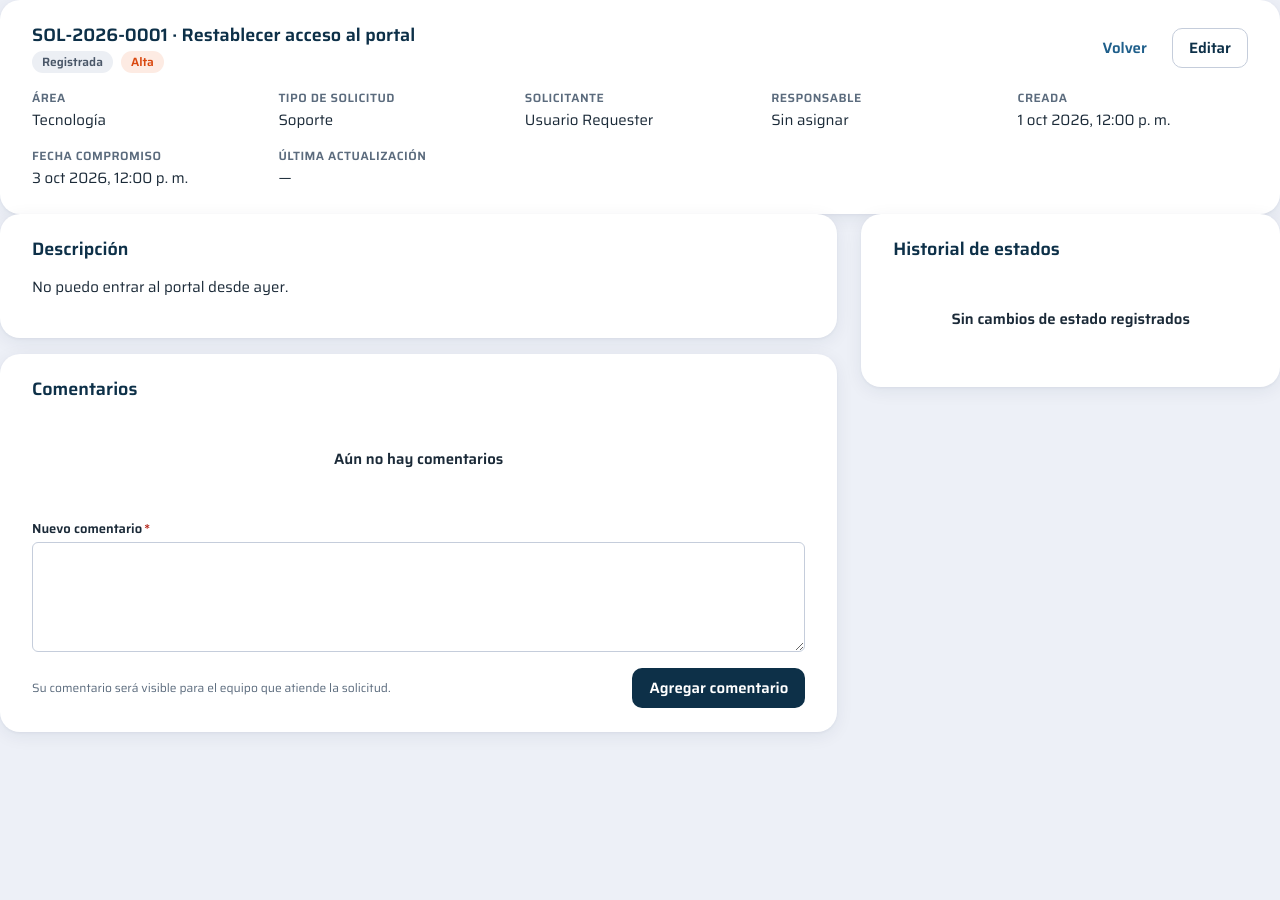
Test: ServiceRequestDetailPage › ante un conflicto de versión avisa, recarga la solicitud y conserva lo escrito
Click the button "Editar" at (1210, 48), box [1172,28,1248,68]
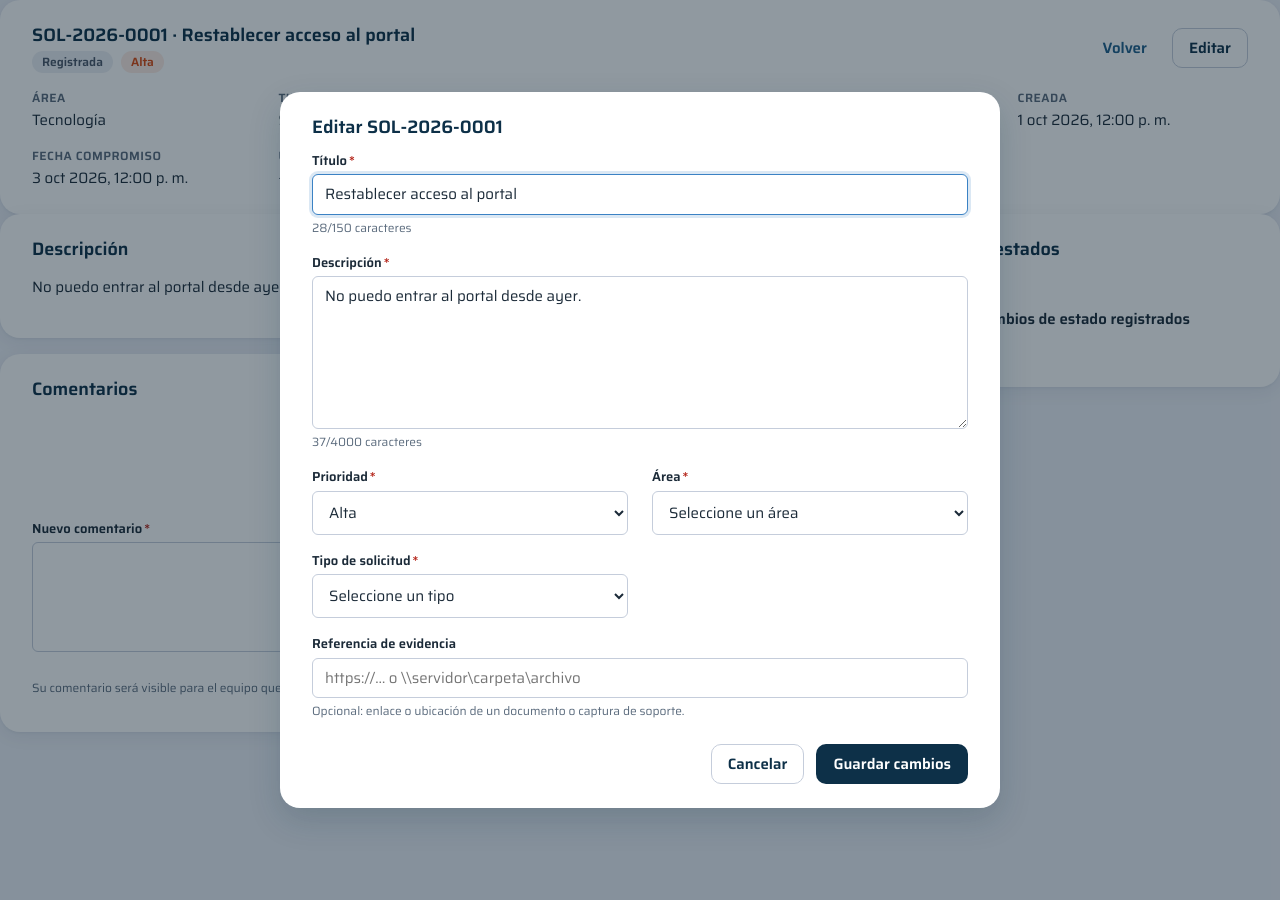
Replace the text in the field labelled "Título*" with "Restablecer acceso al portal de proveedores" at (640, 194), box [312,174,968,214]
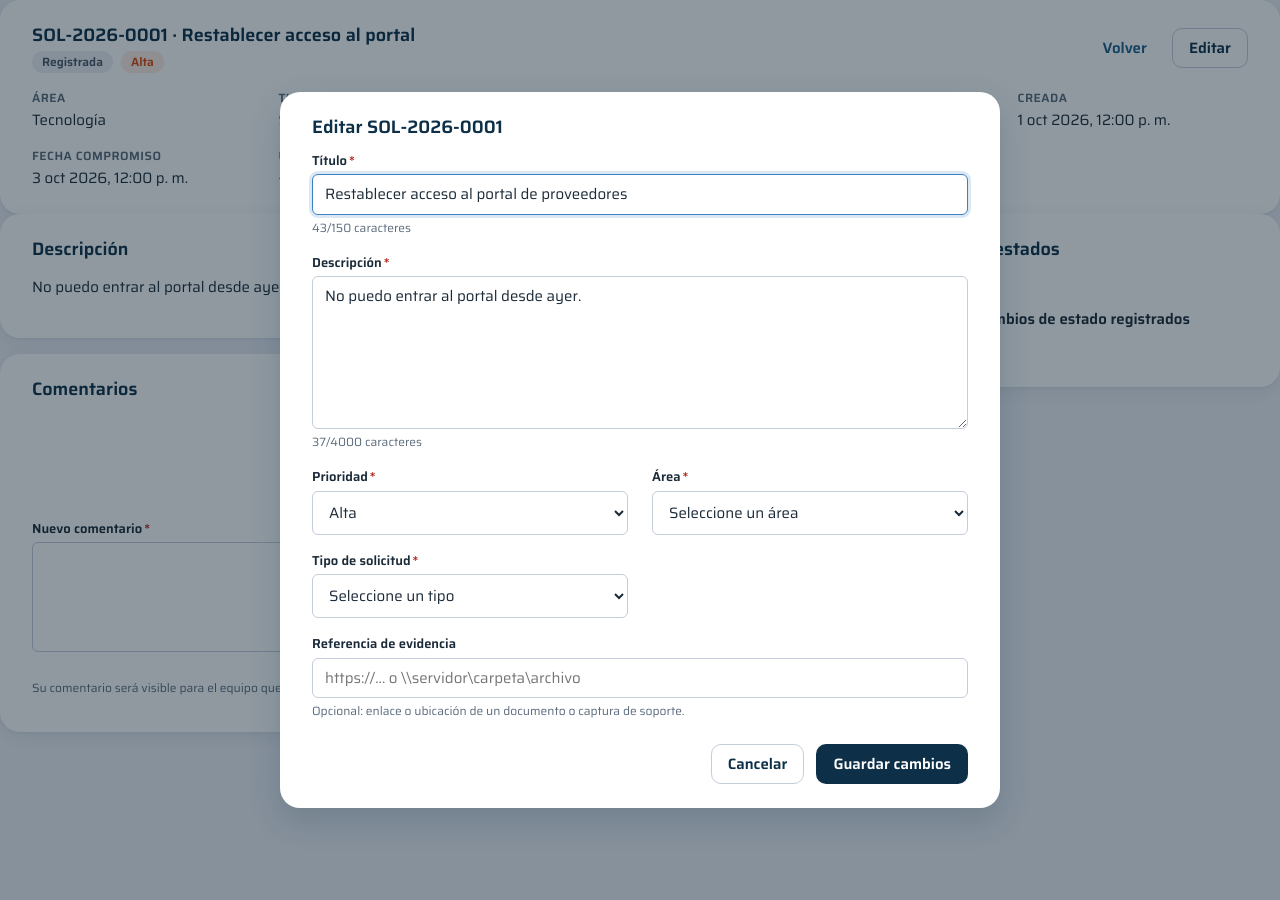
Click the button "Guardar cambios" at (892, 764), box [816,744,968,784]
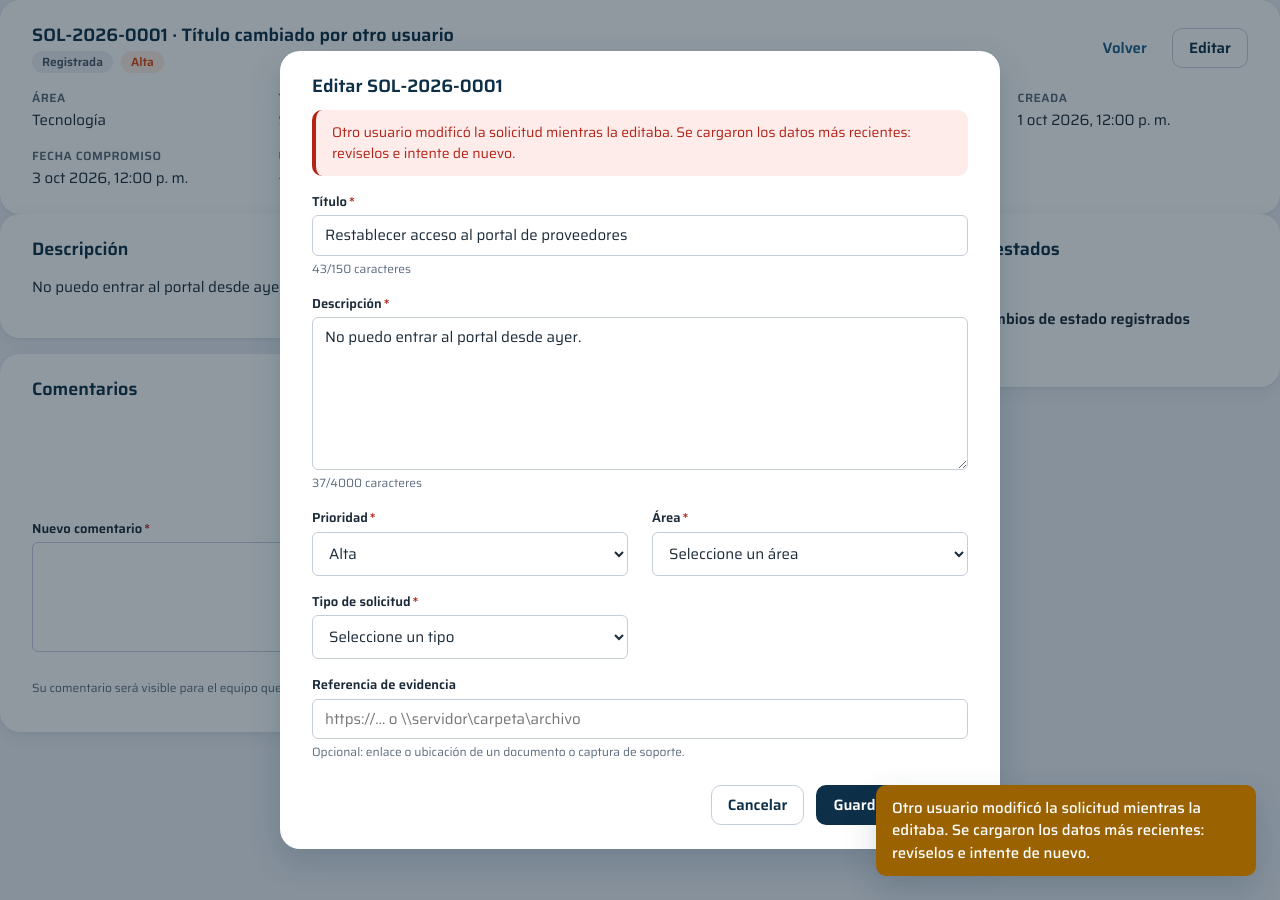
Expected: the message below "Editar SOL-2026-0001" shows "Otro usuario modificó la solicitud", [332,120,911,164]
